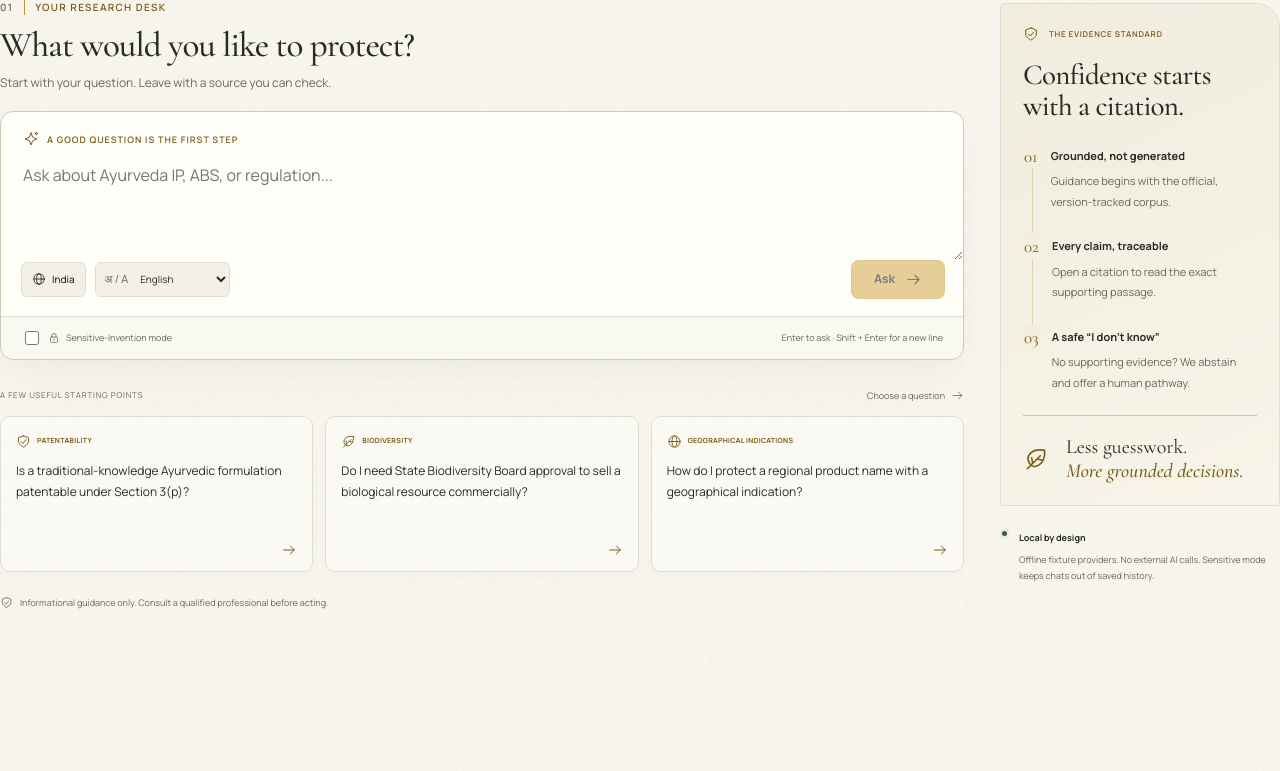
Test: controls + compare › jurisdiction, language, and sensitive toggle are passed to the API
Click the button with test id "jur-toggle" at (53, 279), box x1=21 y1=262 x2=86 y2=297
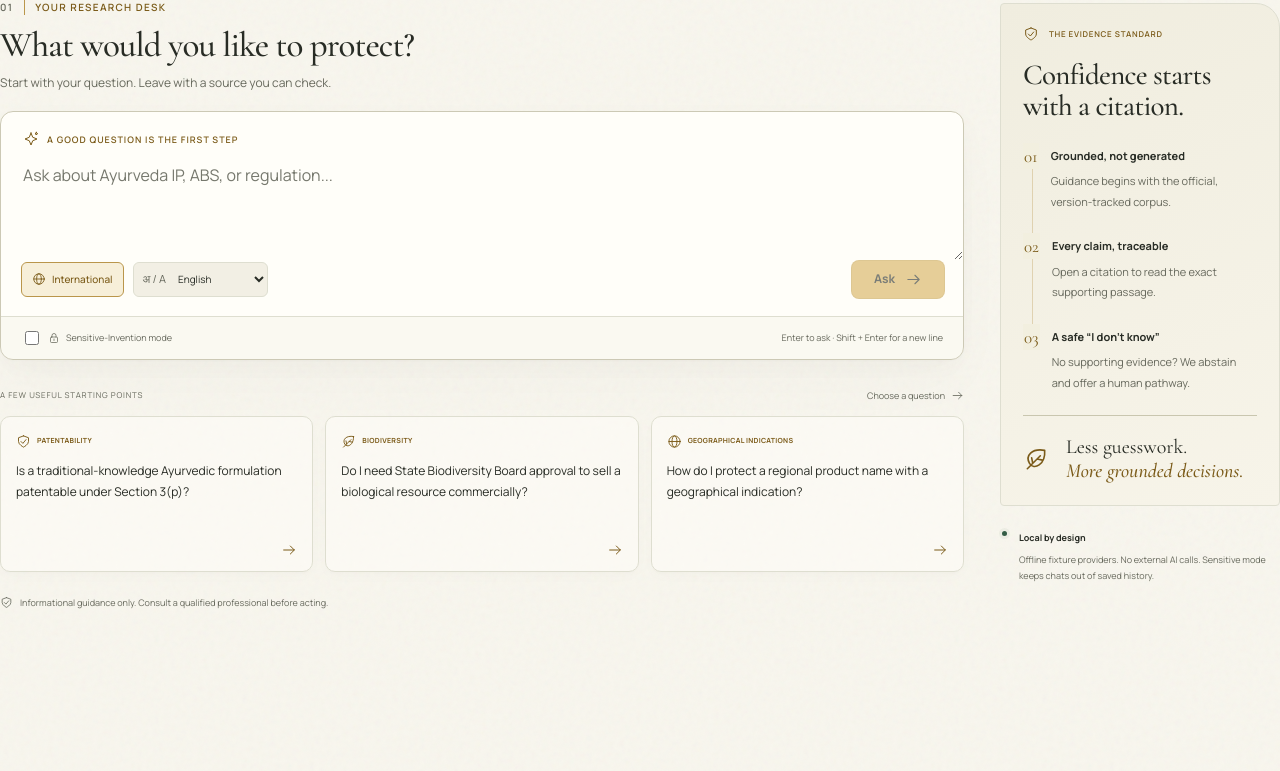
Click the checkbox with test id "sensitive-toggle" at (32, 338), box x1=25 y1=331 x2=39 y2=345
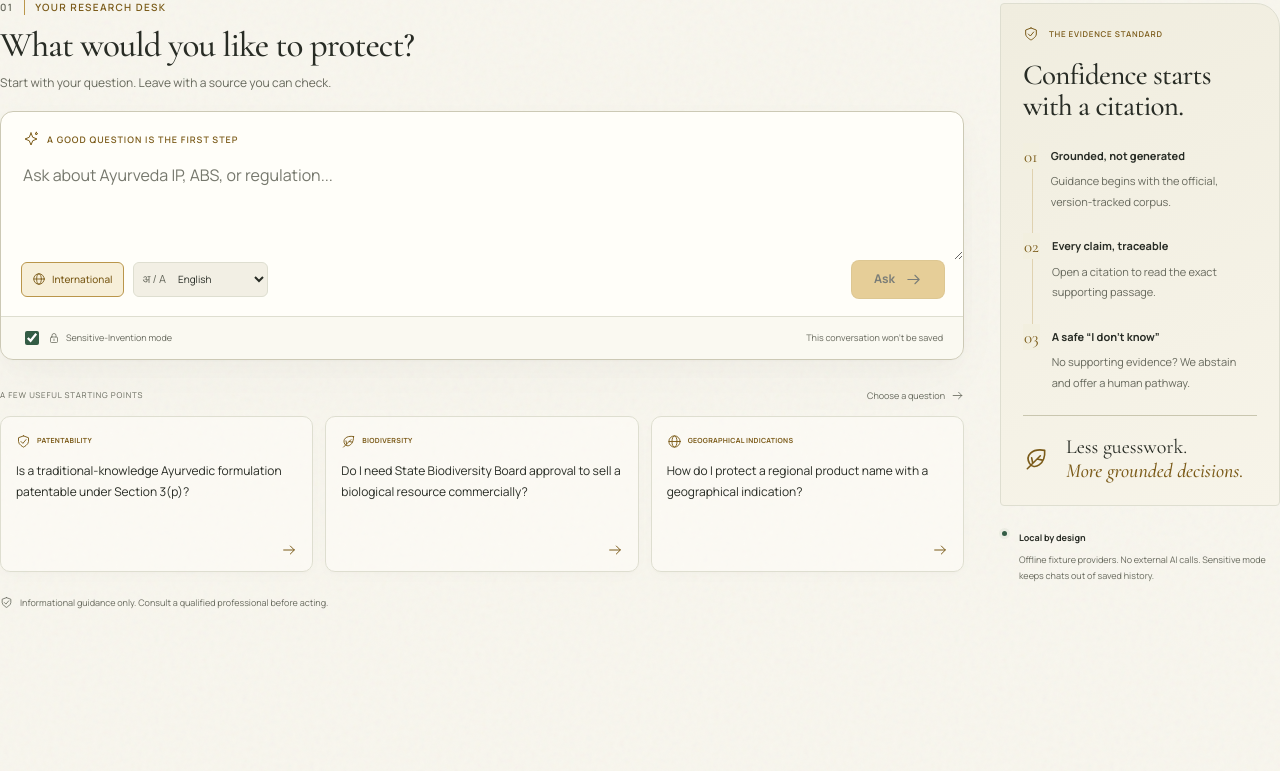
Type "test query" into the text box with placeholder "Ask about Ayurveda IP, ABS, or regulation..." at (482, 203), box x1=1 y1=147 x2=963 y2=260
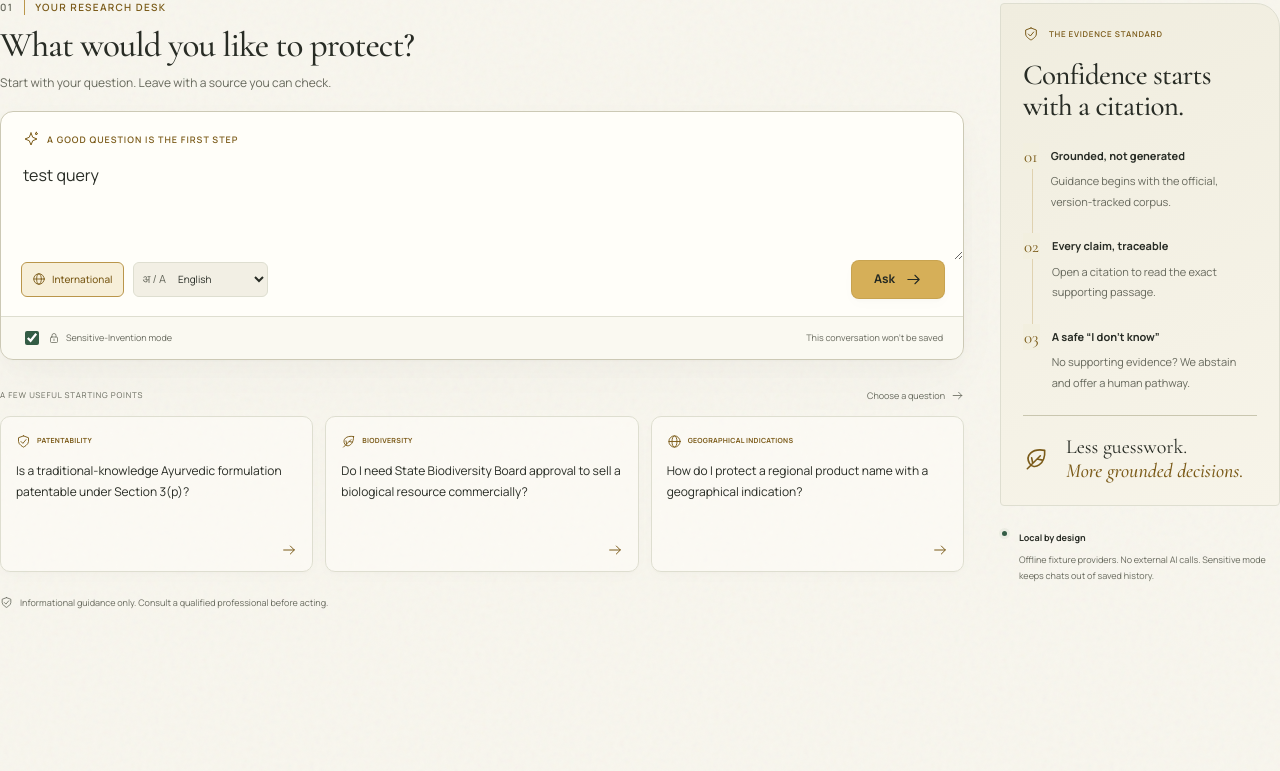
Click the button "Ask" at (898, 279), box x1=851 y1=260 x2=945 y2=299
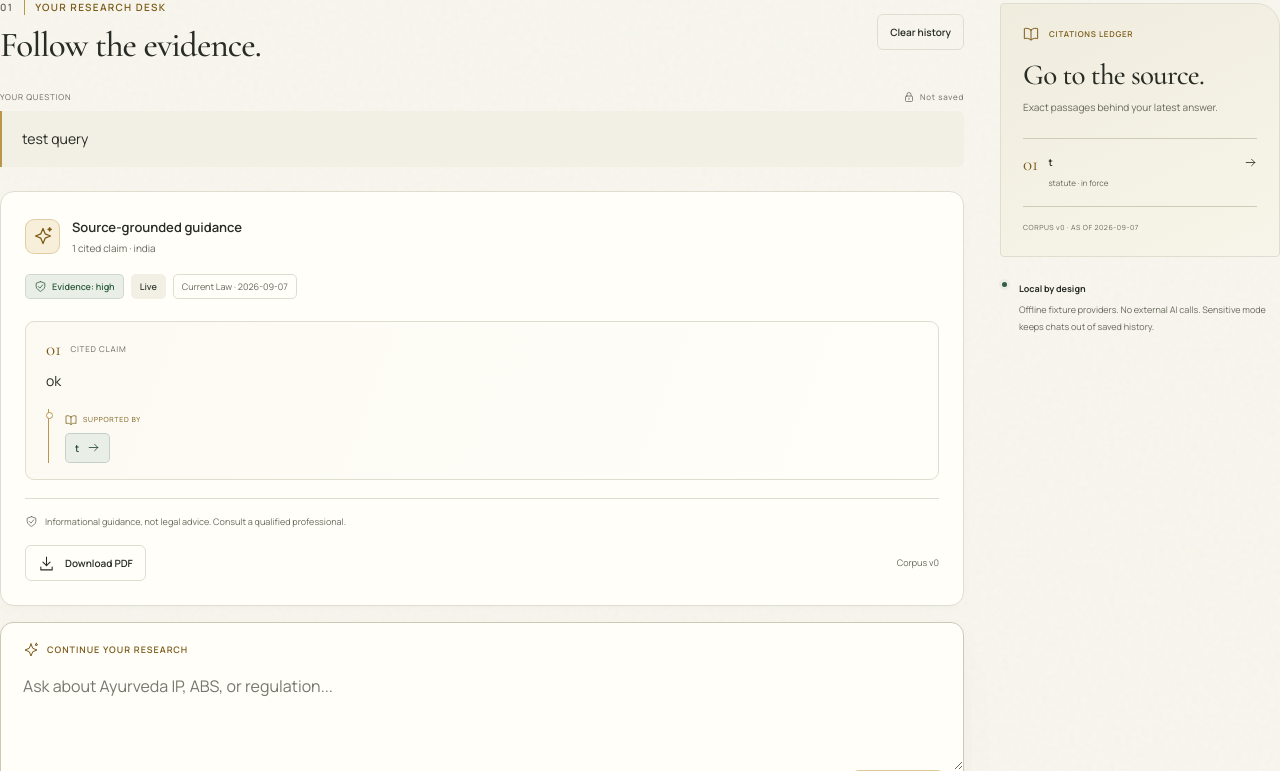
Result: the element with test id "chat-message" is shown at x1=0 y1=191 x2=964 y2=606
